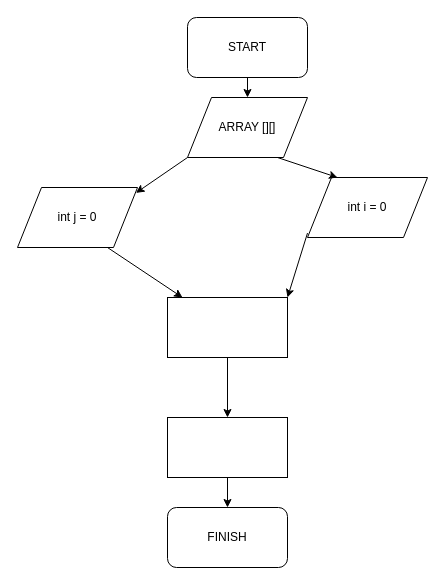
Image size: 445x585. Some labels were removed from this diagram. Here are the shapes that lost their labels. From the top down, the centre of each, then its label:
[227,327]: array[i][j]
[227,447]: Console.WriteLine()
